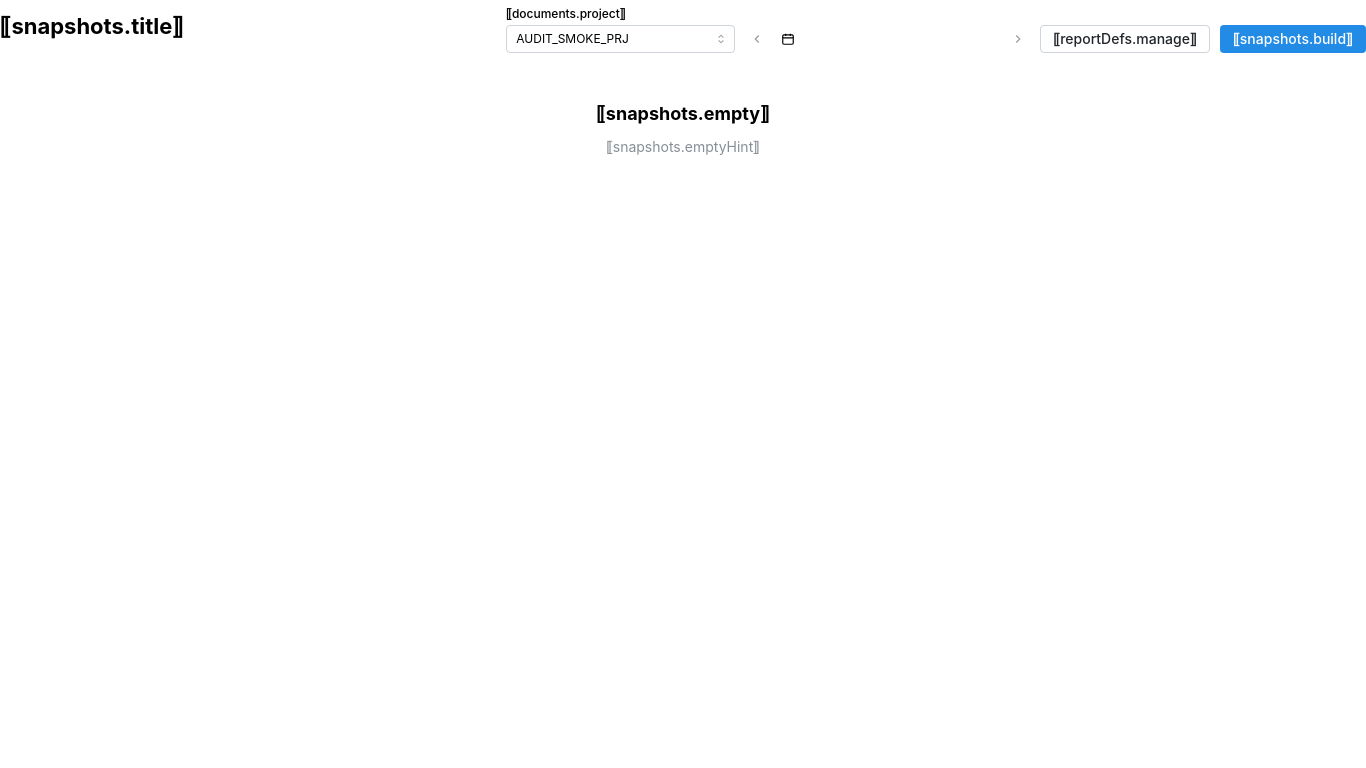
SnapshotsPage: період побудови (діалог «Build snapshot») — PeriodPicker замість NumberInput › грудень → «вперед» → січень НАСТУПНОГО року (не 202613)
Click the button "⟦snapshots.build⟧" at [1293, 39], box [1220,25,1365,53]
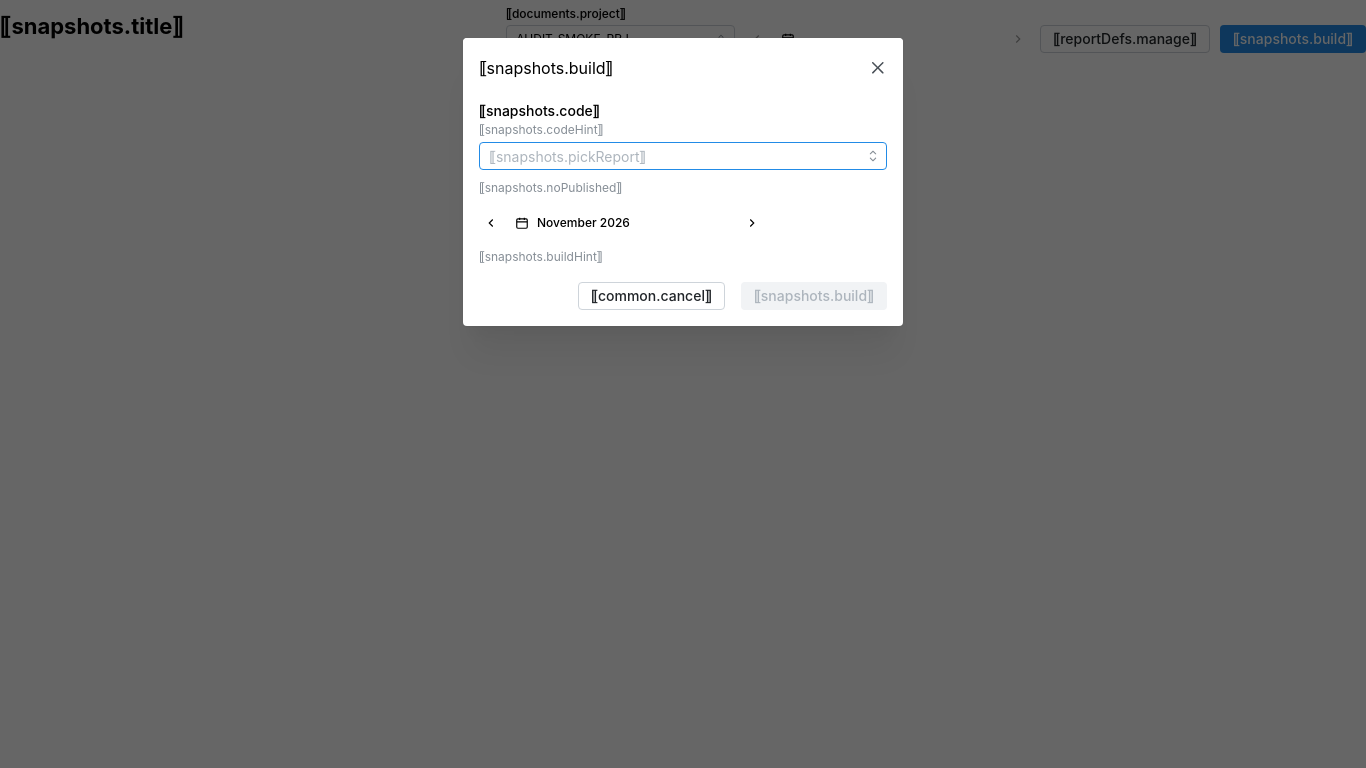
Replace the text in the field named "⟦documents.period⟧" with "202612" at [633, 223], box [536,209,730,237]
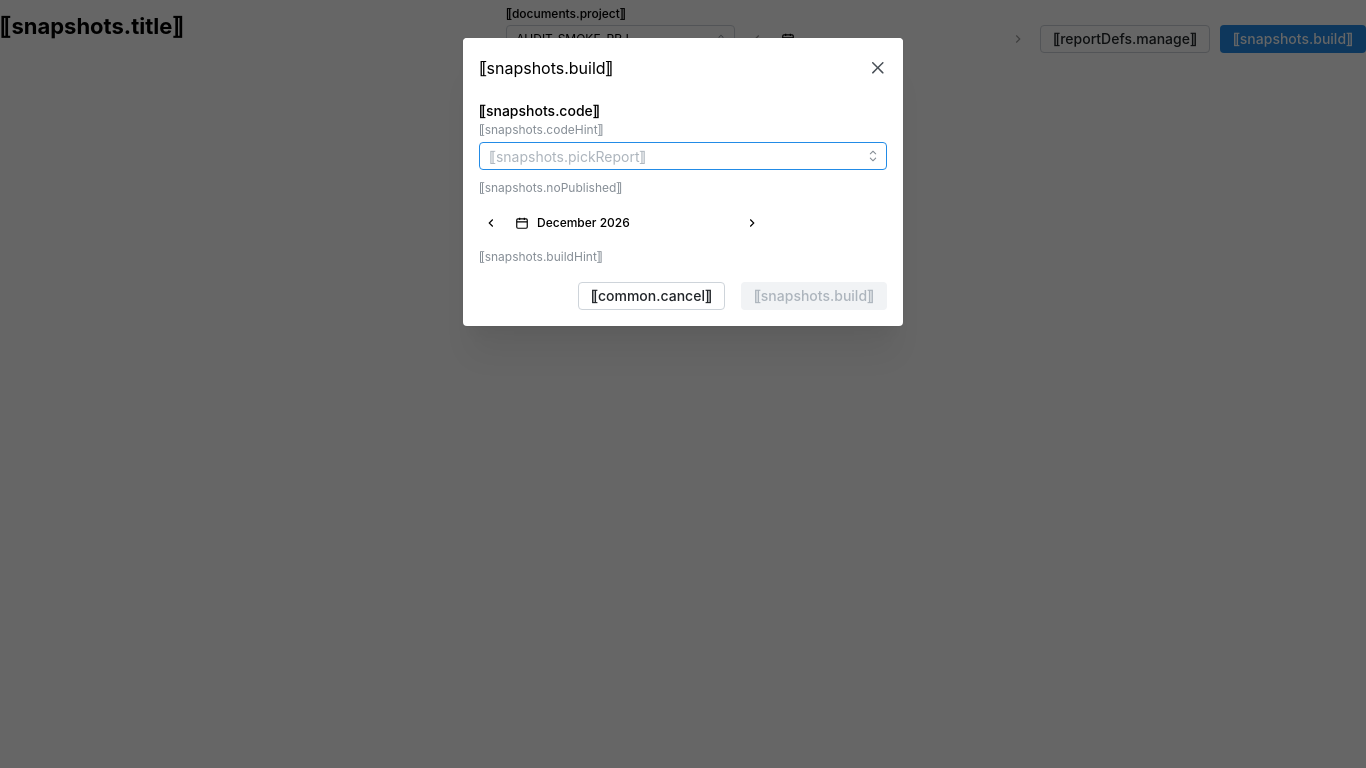
Now the field named "⟦documents.period⟧" holds "December 2026", box [536,209,730,237]
Click the button named "⟦period.next⟧" at [752, 223], box [740,209,764,237]
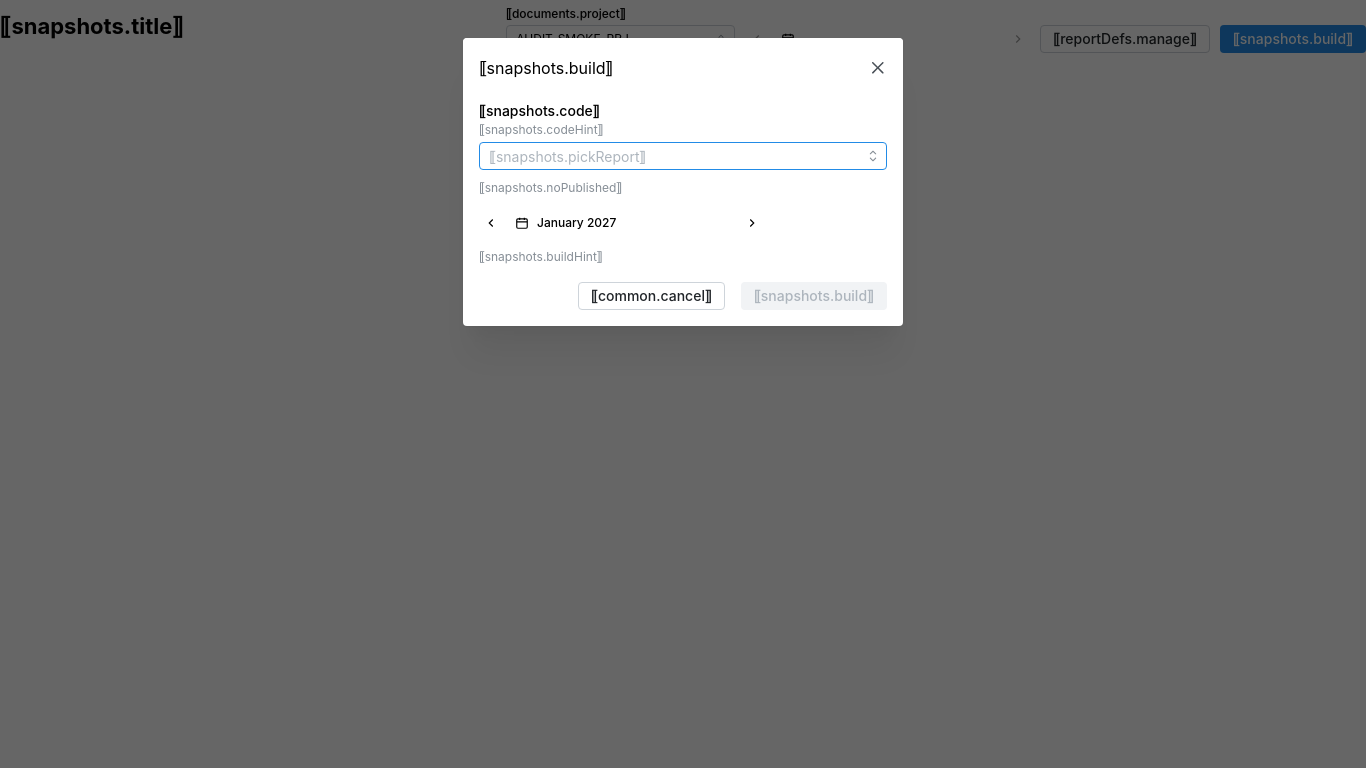
Now the field named "⟦documents.period⟧" holds "January 2027", box [536,209,730,237]
